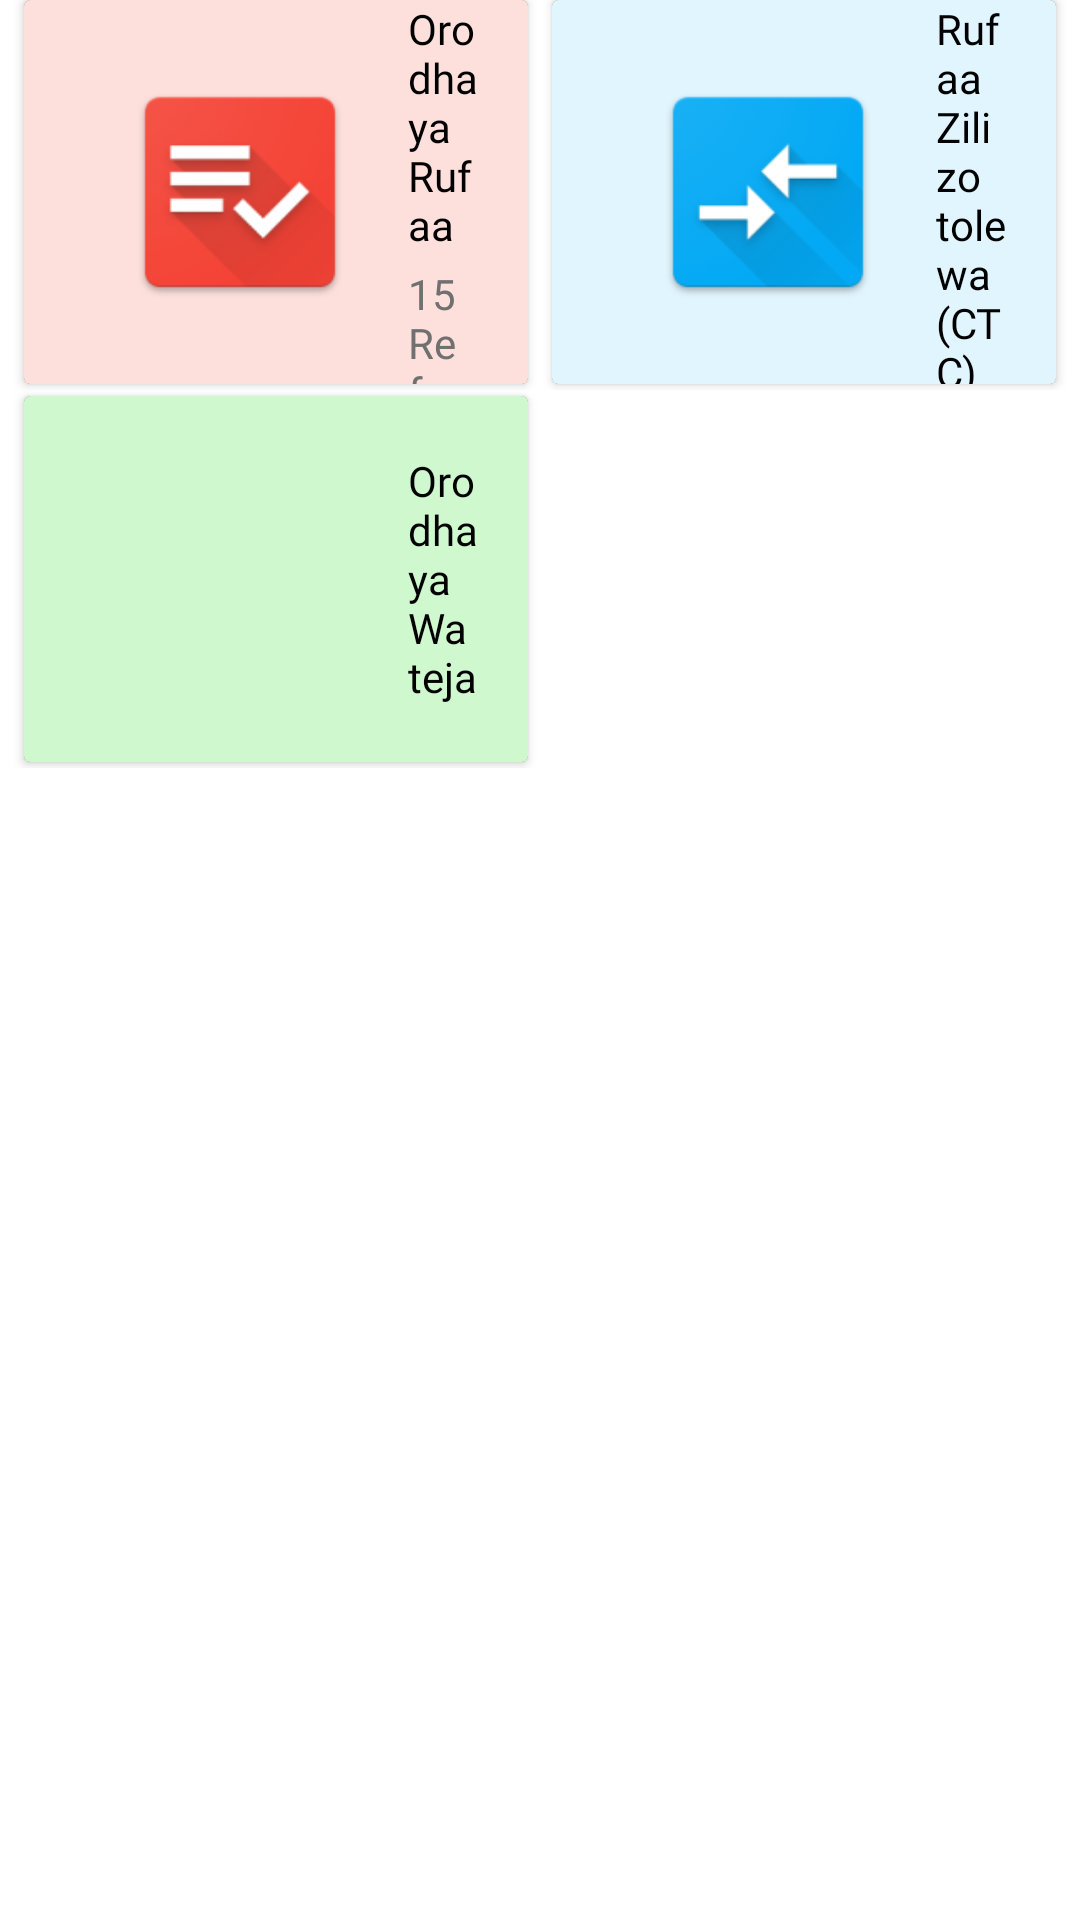

Locate icon controls on the screen. Image size 1080 × 1920, boxes as (x1, y1, x2, y2).
list: (143, 96, 337, 292)
